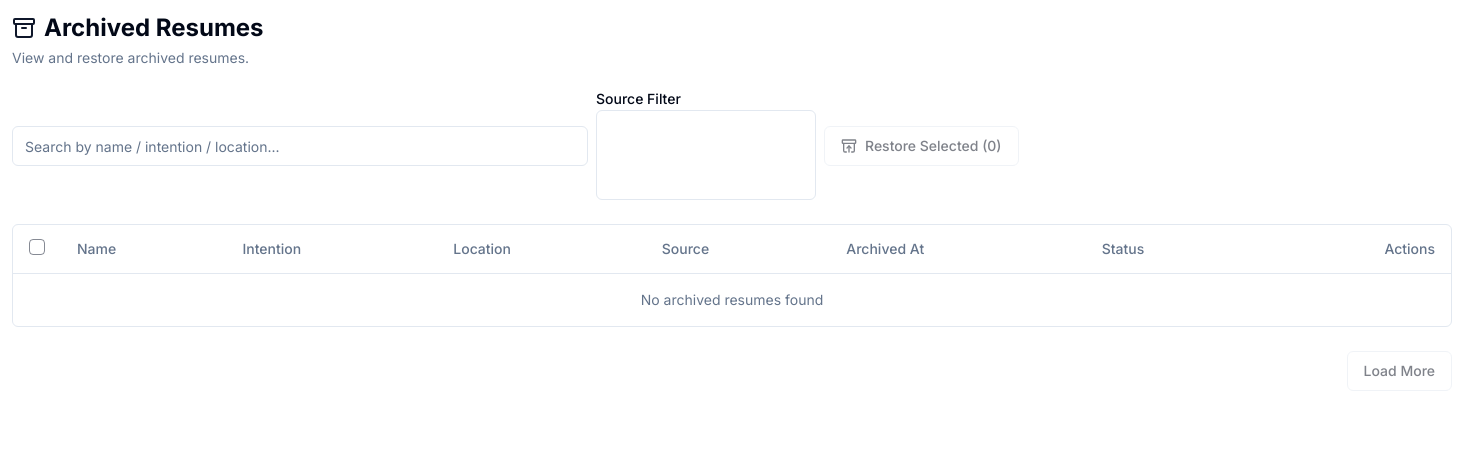
Test: ArchivedResumes empty state › shows a search-specific empty state with a clear action
In the field with placeholder "Search by name / intention / location...": (300, 146) [12, 126, 588, 166], type "nobody"
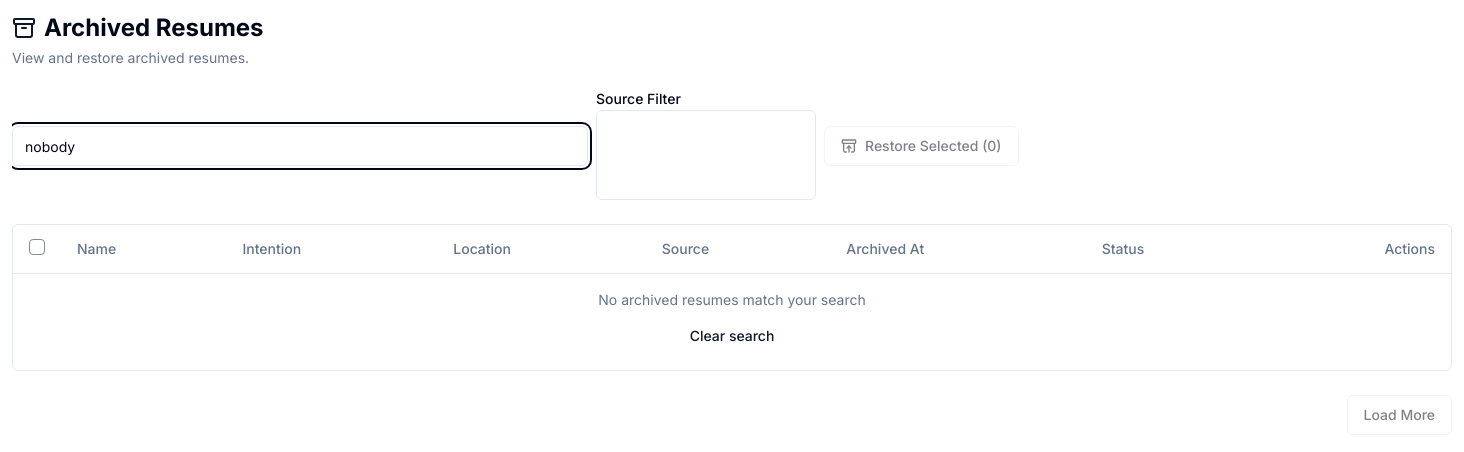
Check: the text "No archived resumes match your search" is shown, box [598, 290, 866, 310]
Click the button "Clear search": (732, 336) [678, 318, 786, 354]
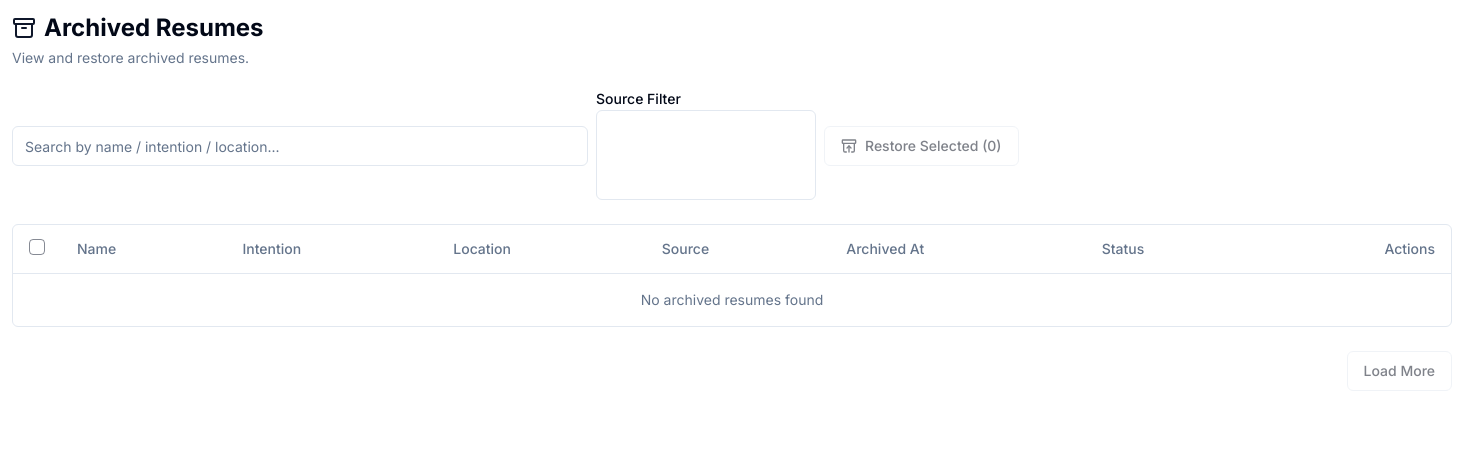
Check: the text "No archived resumes found" is shown, box [13, 273, 1451, 326]
